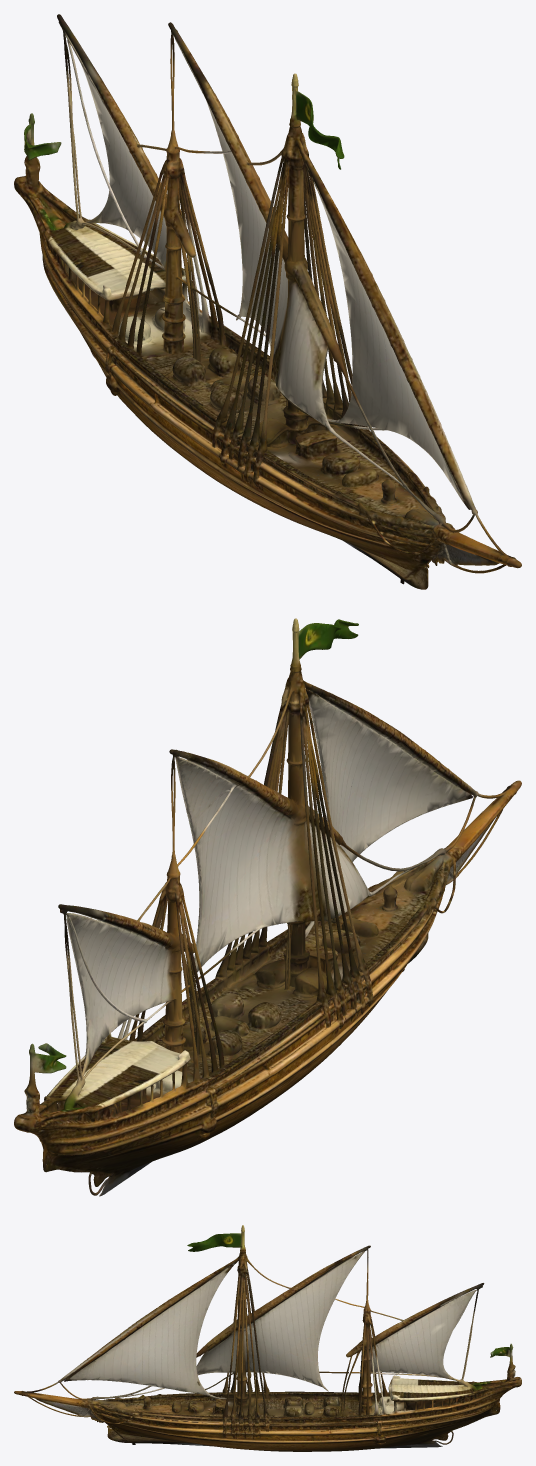
File: xebec.glb
3 renders of one model, top to bottom at view 1: azimuth 30°, elevation 25°; view 2: azimuth 150°, elevation 25°; view 3: azimuth 270°, elevation 25°, orthographic. The views are drawn at different scales.
Visible parts, largest first — view 1: node_0; view 2: node_0; view 3: node_0.
Part boxes in pixels (x1,y1,x2,y2): node_0: [14, 14, 521, 589]; node_0: [14, 618, 521, 1196]; node_0: [14, 1225, 521, 1451].
Bounding box in the file's own units: 0.1653 × 0.5669 × 1.17.
1 material, 1 textured.
